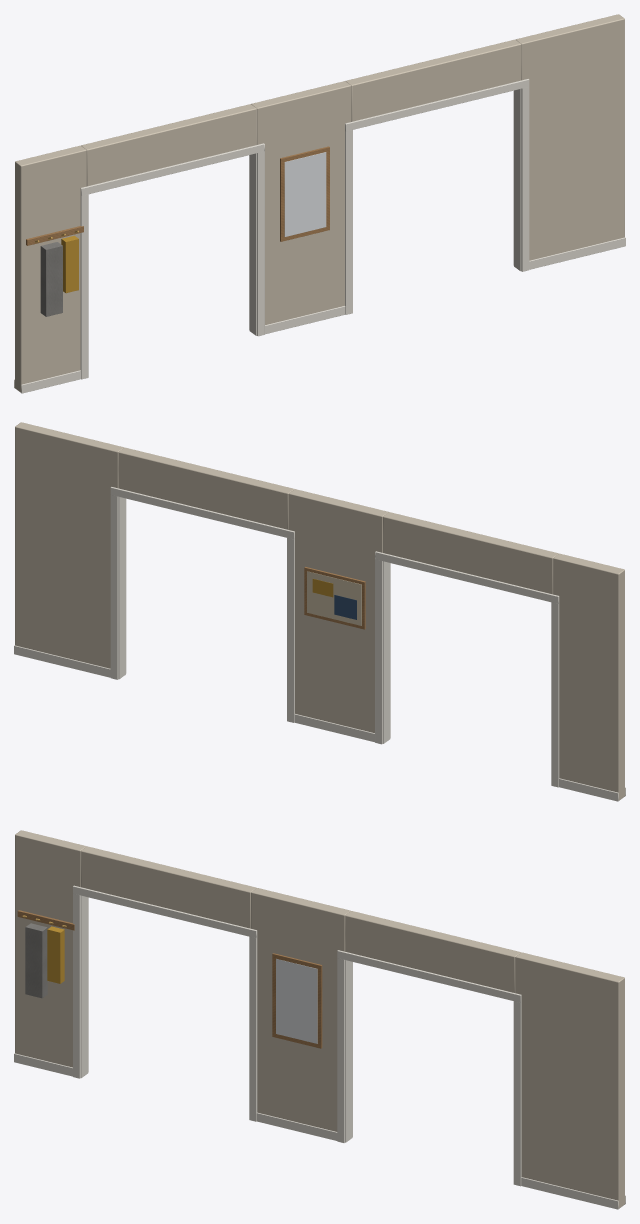
The model's file is wall_hall.glb.
3 renders of one model, top to bottom at view 1: azimuth 30°, elevation 25°; view 2: azimuth 150°, elevation 25°; view 3: azimuth 330°, elevation 25°, orthographic.
Visible parts, largest first — view 1: wall_hall; view 2: wall_hall; view 3: wall_hall.
Boxes of the visible parts, box(x1,y1,x2,y2) form: wall_hall: box(14, 14, 625, 393); wall_hall: box(14, 422, 625, 801); wall_hall: box(14, 830, 625, 1209).
Bounding box in the file's own units: 32 × 11.5 × 1.37.
9 materials, 2 textured.
